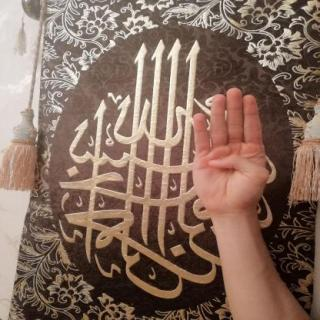KAAF: (178, 82, 277, 223)
